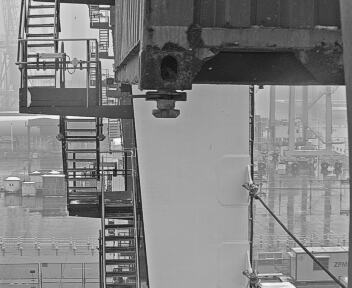twist_lock_1: (139, 82, 191, 126)
